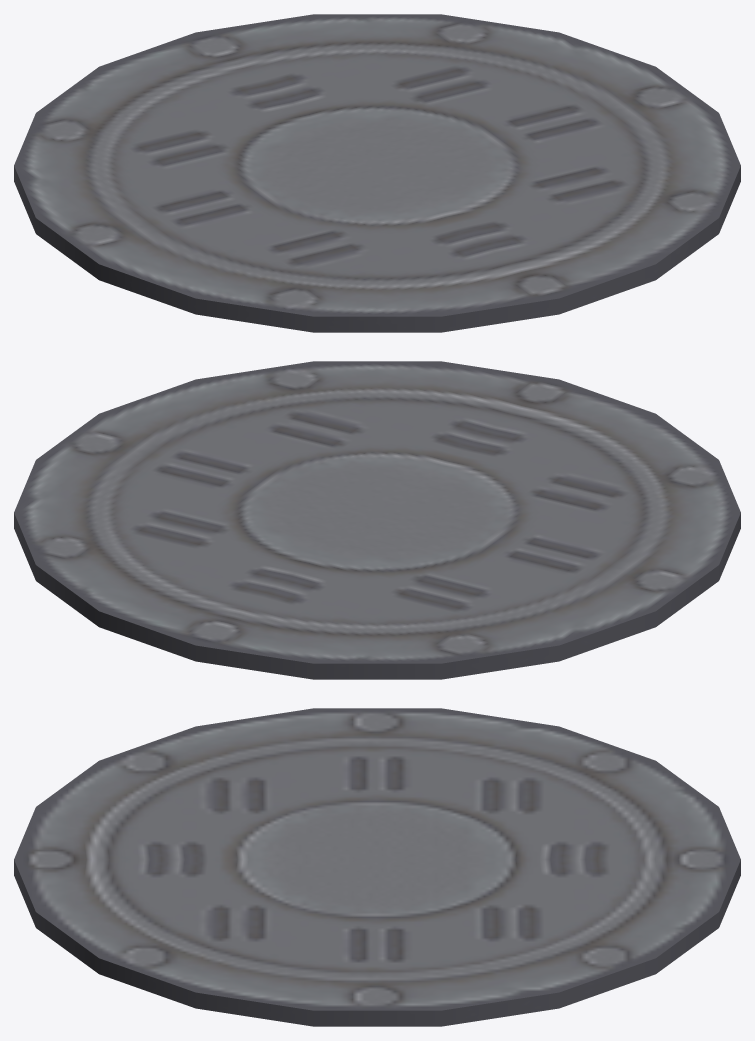
File: Hatch.FBX
3 renders of one model, top to bottom at view 1: azimuth 30°, elevation 25°; view 2: azimuth 150°, elevation 25°; view 3: azimuth 270°, elevation 25°, orthographic.
Parts seen in each view (by area): view 1: Hatch; view 2: Hatch; view 3: Hatch.
Boxes of the visible parts, x1,y1,x2,y2 form: Hatch: (14, 14, 740, 332); Hatch: (14, 361, 740, 679); Hatch: (14, 708, 740, 1026).
Size of the model in its own units: 148 by 3.64 by 150.
